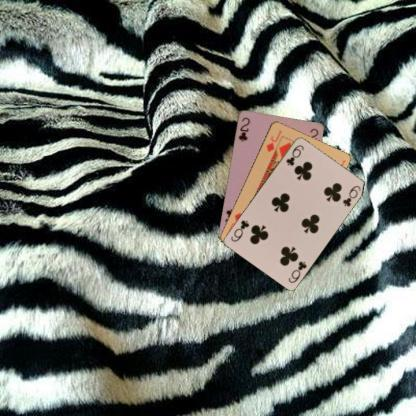2c: (236, 114, 250, 143)
6c: (285, 258, 308, 284), (283, 142, 305, 167)
Jd: (264, 127, 284, 153)
